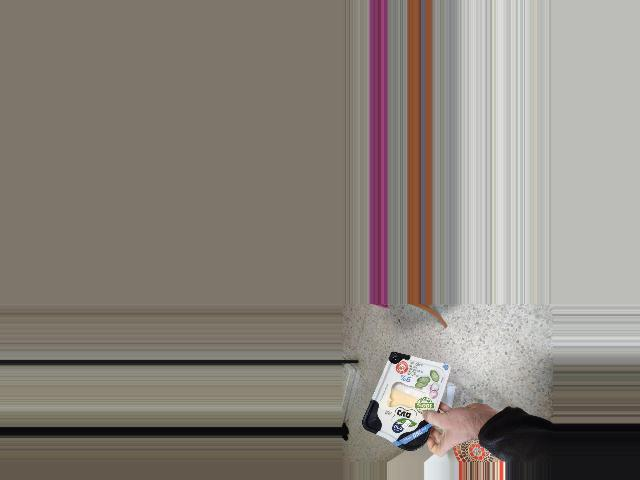cheese: (368, 352, 436, 454)
